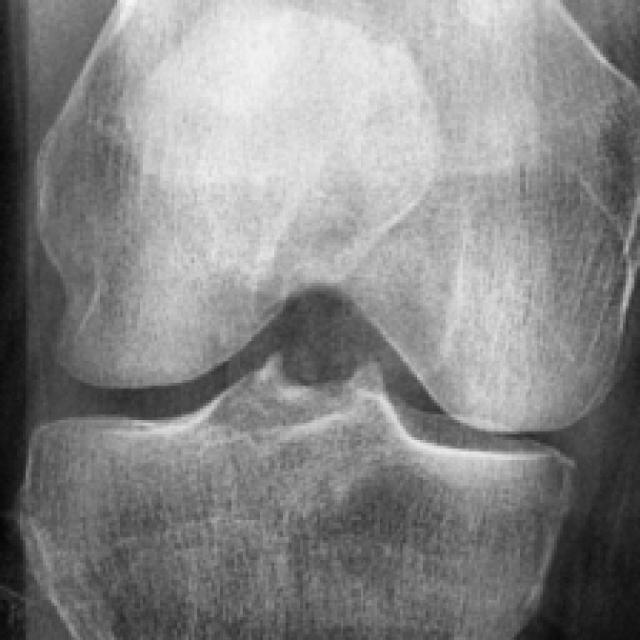femur: (40, 1, 637, 429)
tibia: (23, 354, 569, 637)
